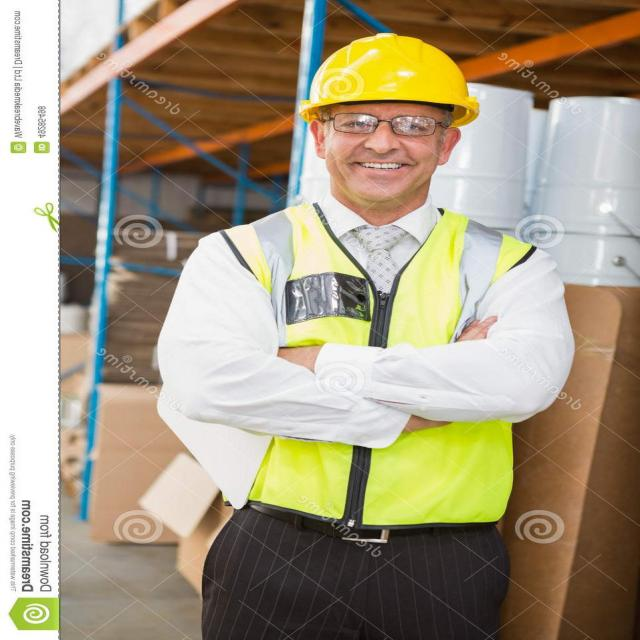Reflective-Jacket: (229, 207, 524, 526)
Safety-Helmet: (296, 31, 479, 124)
